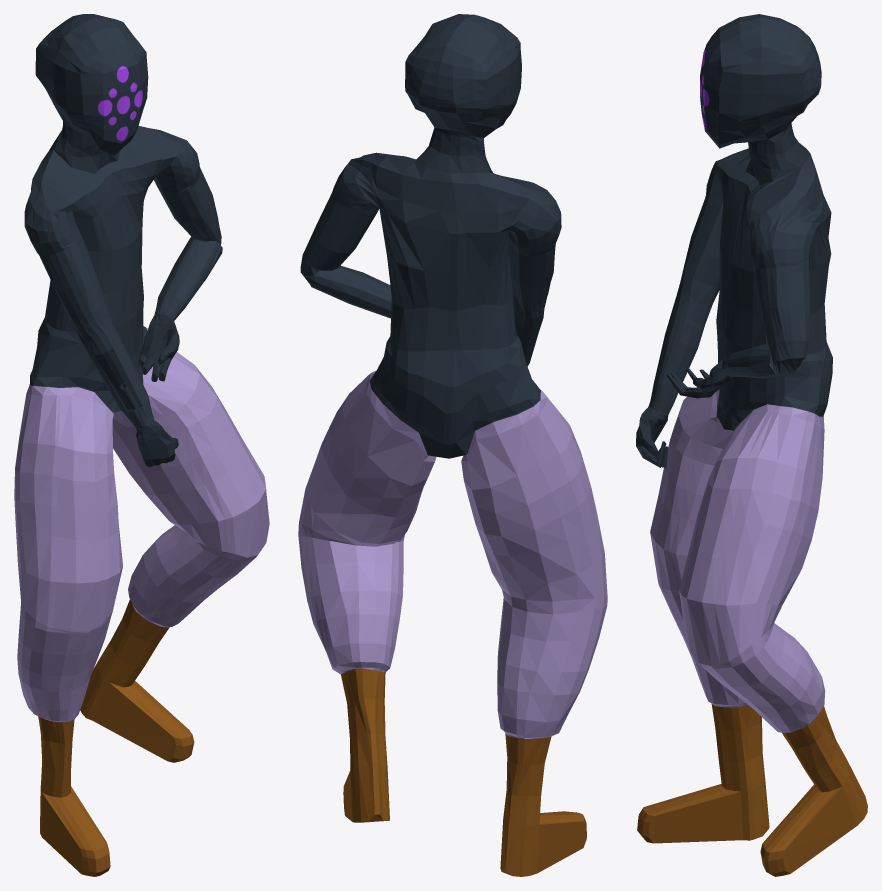
File: Oracle_WL_000006.obj
The picture shows the model from 3 angles, left to right: view 1: azimuth 30°, elevation 25°; view 2: azimuth 150°, elevation 25°; view 3: azimuth 270°, elevation 25°; orthographic projection. The views are drawn at different scales.
Parts seen in each view (by area): view 1: Cube; view 2: Cube; view 3: Cube.
Boxes of the visible parts, x1=… form: Cube: x1=14, y1=14, x2=269, y2=876; Cube: x1=298, y1=14, x2=607, y2=876; Cube: x1=636, y1=14, x2=867, y2=876.
Size of the model in its own units: 1.33 by 3.89 by 0.9676.
